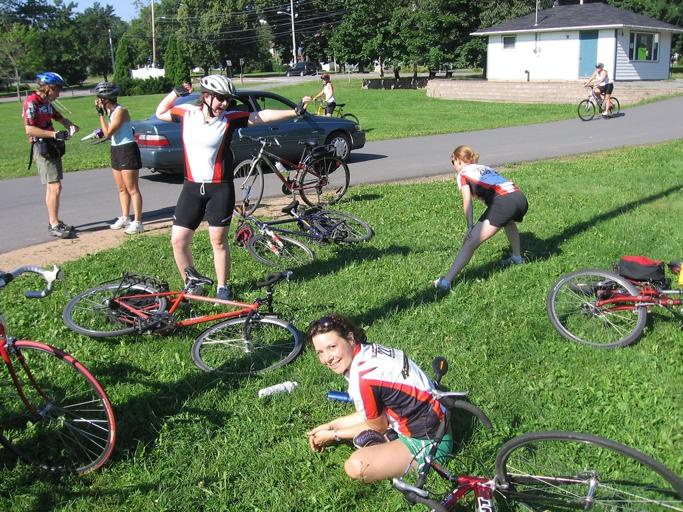non-vehicle: (384, 357, 683, 511), (65, 266, 302, 378), (544, 253, 682, 351), (233, 127, 351, 217), (235, 199, 374, 265), (577, 83, 619, 121), (312, 96, 359, 124)
